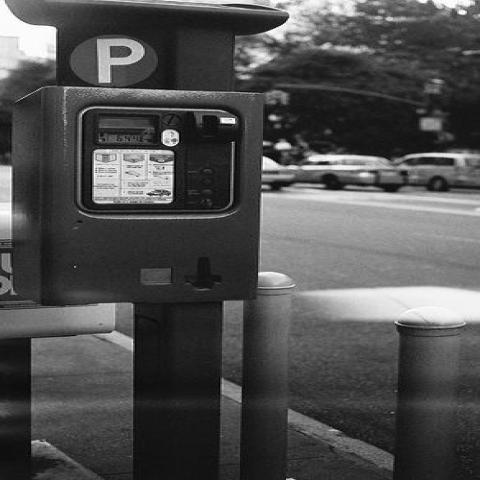car: (292, 157, 417, 191), (398, 152, 478, 193), (257, 156, 294, 192)
